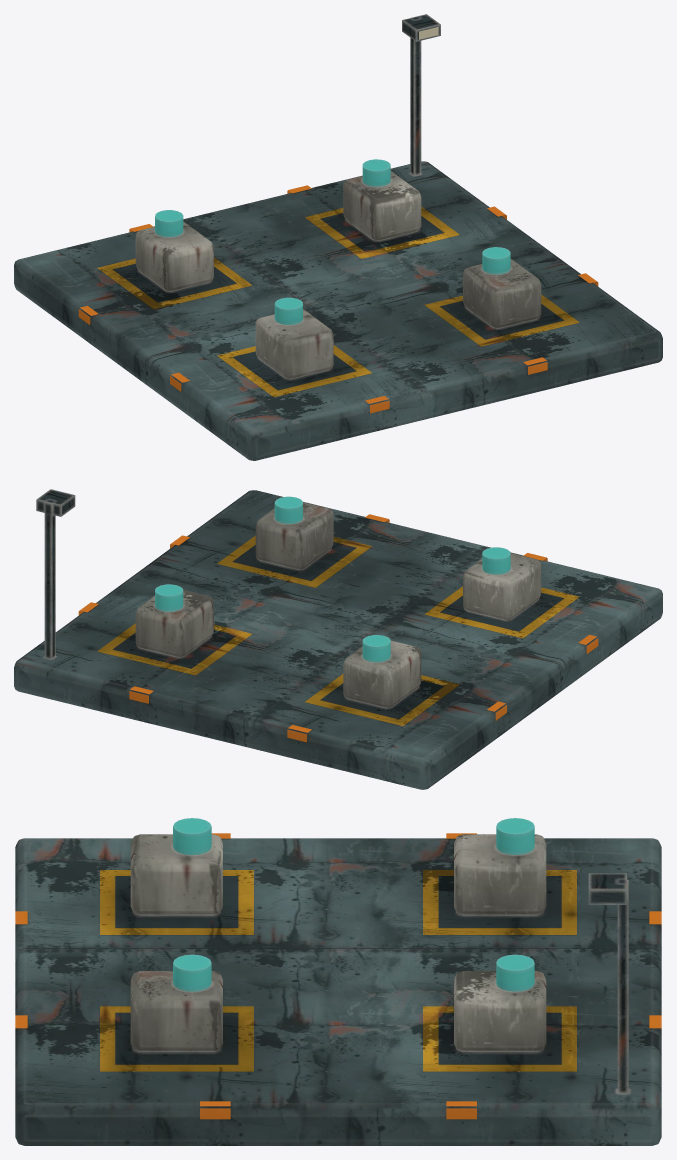
The model's file is robot_bay.glb.
The picture shows the model from 3 angles, top to bottom: view 1: azimuth 30°, elevation 25°; view 2: azimuth 150°, elevation 25°; view 3: azimuth 270°, elevation 25°; orthographic projection. The views are drawn at different scales.
Parts seen in each view (by area): view 1: te_robot_bay; view 2: te_robot_bay; view 3: te_robot_bay.
Boxes of the visible parts, x1,y1,x2,y2 form: te_robot_bay: (14, 14, 662, 460); te_robot_bay: (14, 489, 662, 789); te_robot_bay: (15, 818, 661, 1145).
Bounding box in the file's own units: 0.8436 × 0.361 × 0.8436.
1 material, 1 textured.
